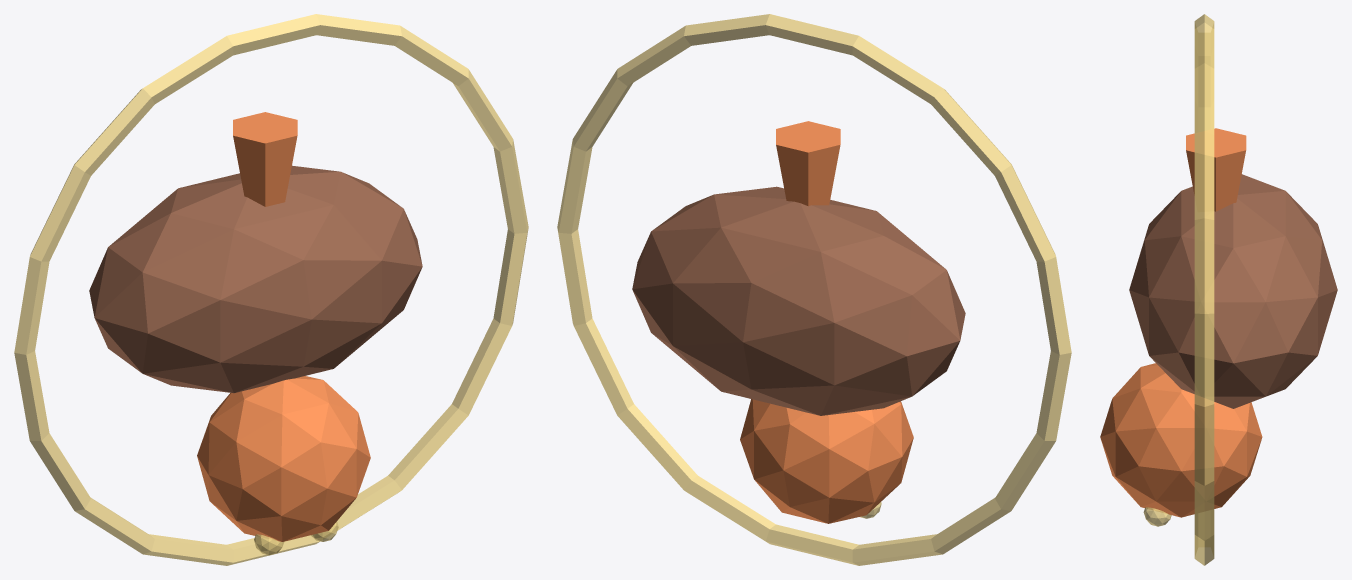
The model's file is 08_pet_companion_proc.glb.
3 views of the same model, side by side, from view 1: azimuth 30°, elevation 25°; view 2: azimuth 150°, elevation 25°; view 3: azimuth 270°, elevation 25° (orthographic). The views are drawn at different scales.
Parts seen in each view (by area): view 1: pet_body, bonus_proc_ring, pet_head, tail_or_antenna; view 2: pet_body, bonus_proc_ring, pet_head, tail_or_antenna; view 3: pet_body, pet_head, bonus_proc_ring, tail_or_antenna, pet_eye_r.
Boxes of the visible parts, <box> form: pet_body: <box>89,165,422,393</box>; bonus_proc_ring: <box>14,14,528,565</box>; pet_head: <box>197,376,370,541</box>; tail_or_antenna: <box>233,112,297,206</box>; pet_body: <box>632,186,965,415</box>; bonus_proc_ring: <box>557,14,1071,565</box>; pet_head: <box>740,399,913,523</box>; tail_or_antenna: <box>776,121,840,206</box>; pet_body: <box>1129,174,1337,408</box>; pet_head: <box>1100,363,1262,517</box>; bonus_proc_ring: <box>1194,14,1214,565</box>; tail_or_antenna: <box>1186,128,1246,211</box>; pet_eye_r: <box>1143,507,1171,526</box>.
Bounding box in the file's own units: 0.956 × 0.9415 × 0.41.
